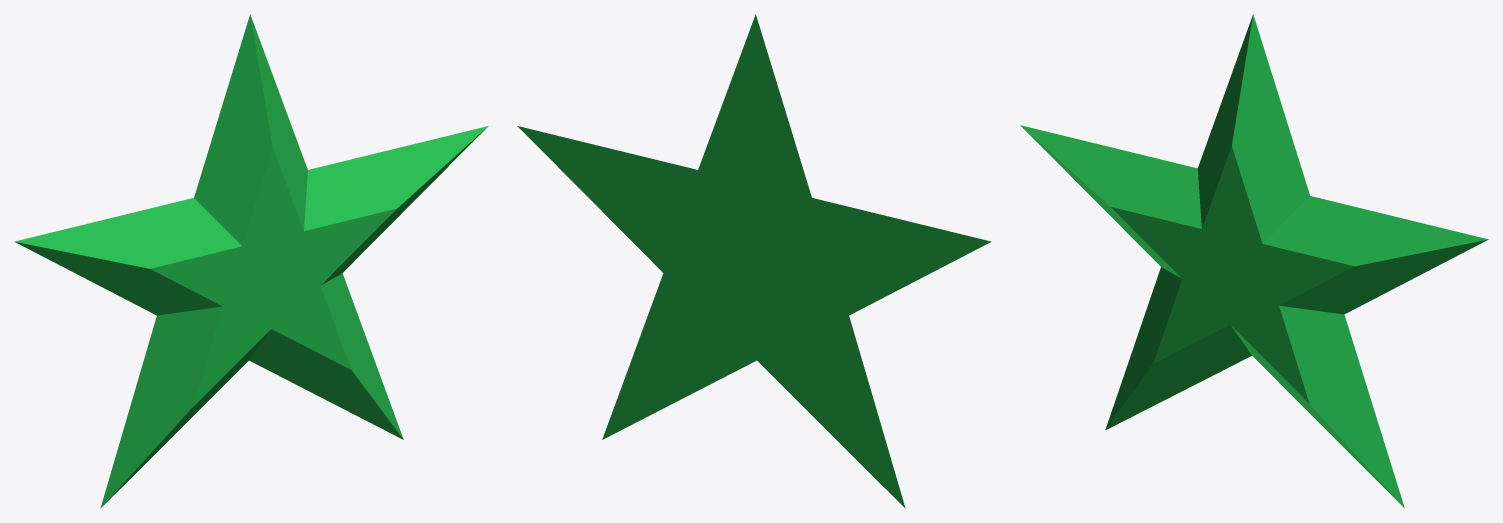
Rendered from star.obj.
3 views of the same model, side by side, from view 1: azimuth 30°, elevation 25°; view 2: azimuth 150°, elevation 25°; view 3: azimuth 330°, elevation 25° (orthographic).
Visible parts, largest first — view 1: Object.1; view 2: Object.1; view 3: Object.1.
Part boxes in pixels (x1,y1,x2,y2): Object.1: (14,14,488,508); Object.1: (517,14,991,508); Object.1: (1020,14,1488,508).
Size of the model in its own units: 24.87 by 23.21 by 2.01.
